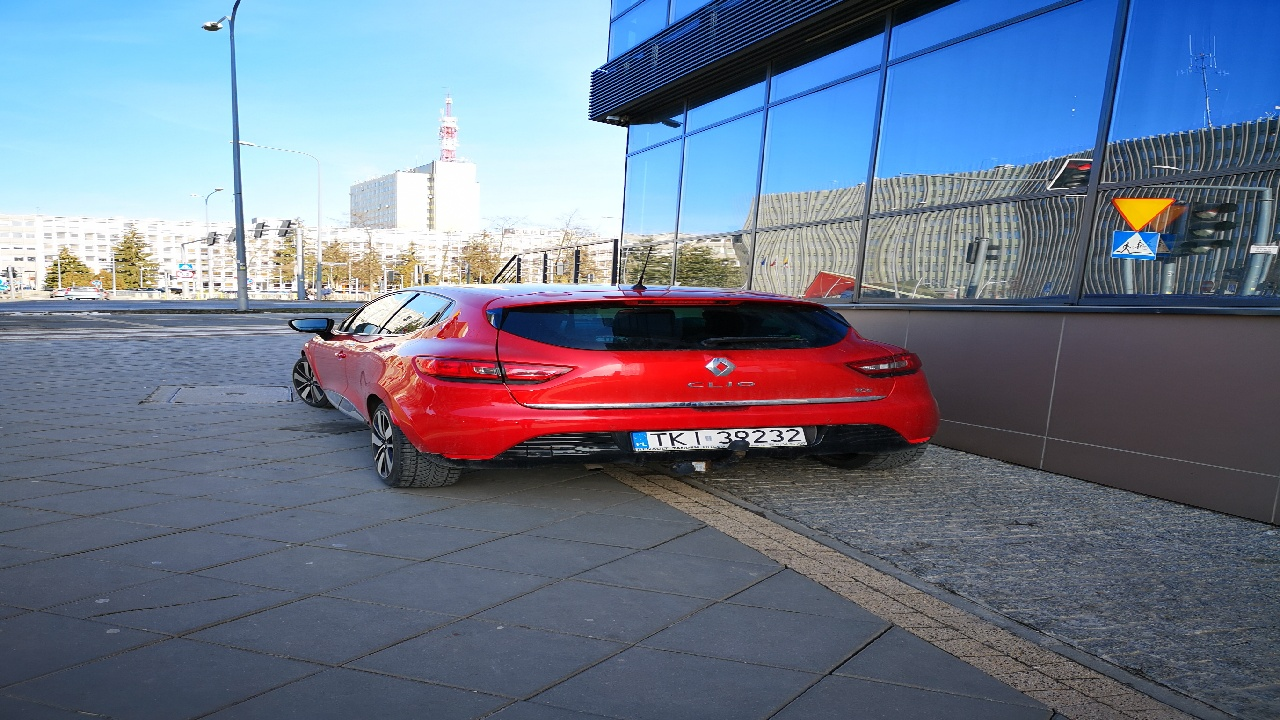A7: (1105, 189, 1176, 229)
